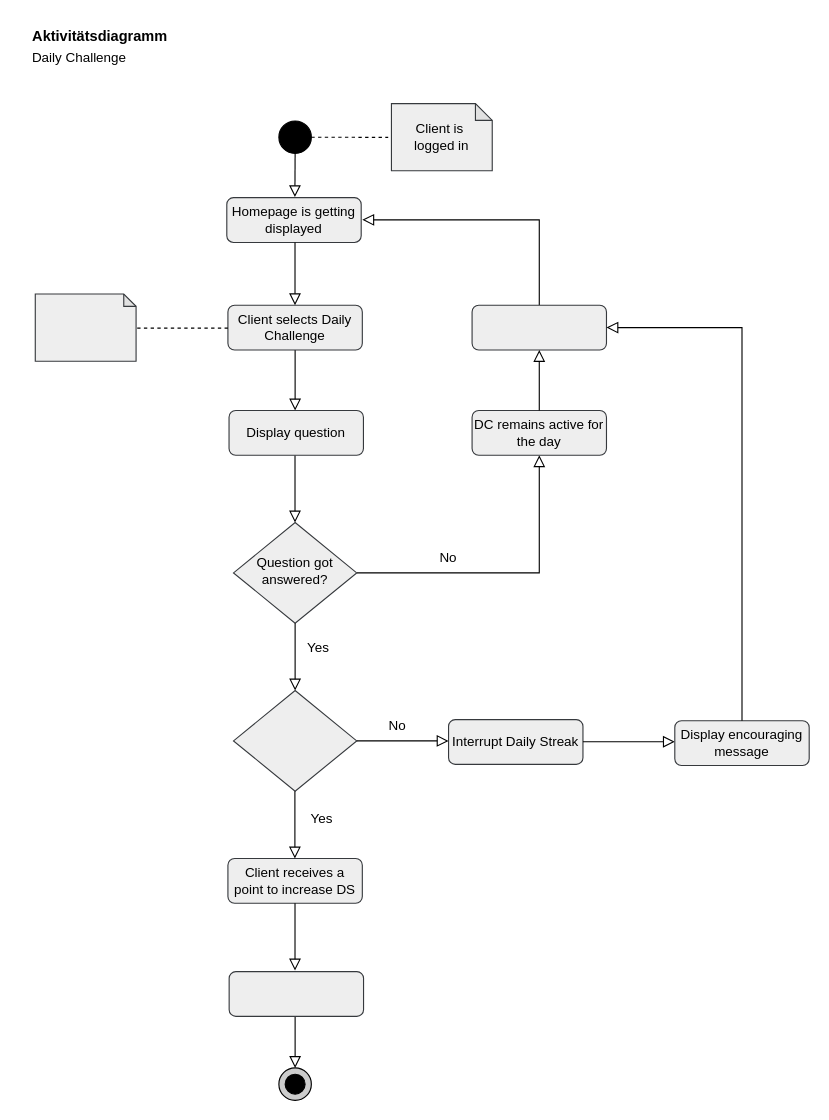
Some shapes in this 829 by 1120 pixel diagram are drawn without their labels. The shapes that lost their labels are listed below. From the top down, each one's centre as x and y in pixels, then its label:
At (x=85, y=327): "Client has time to answer until end of the day".
At (x=538, y=327): "Client returns to homepage".
At (x=294, y=740): "Answer correct?".
At (x=296, y=993): "Display positive message".
